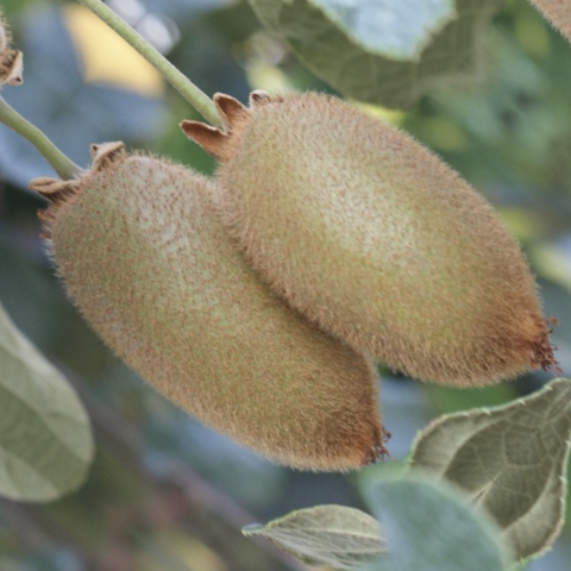kiwi: (0, 90, 451, 545), (131, 8, 571, 465)
